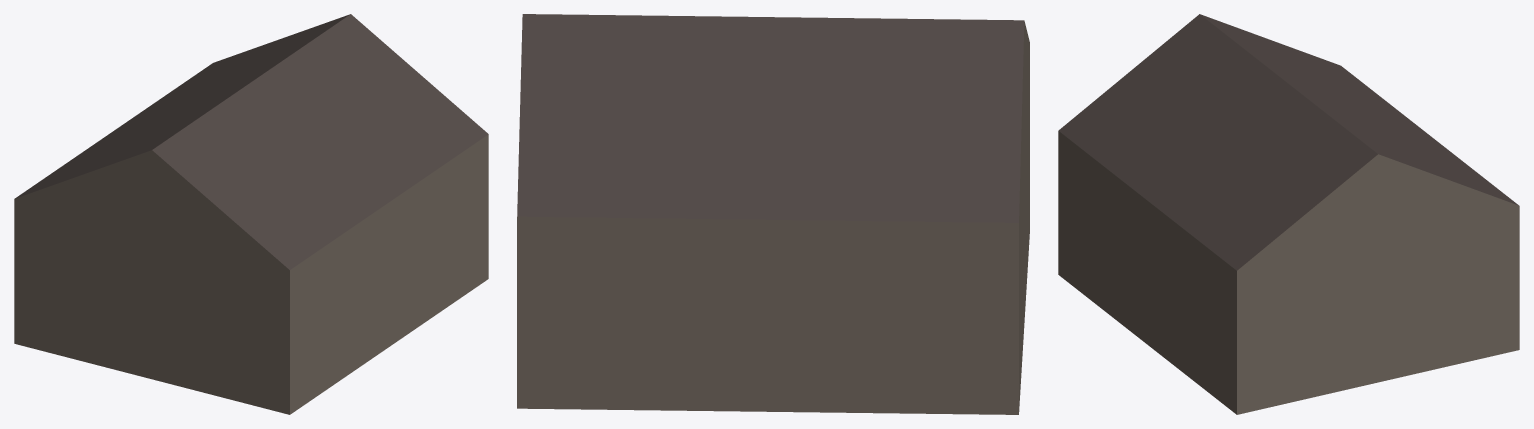
3 views of the same model, side by side, from view 1: azimuth 30°, elevation 25°; view 2: azimuth 150°, elevation 25°; view 3: azimuth 270°, elevation 25° (orthographic). The views are drawn at different scales.
Parts seen in each view (by area): view 1: HP-w859424141; view 2: HP-w859424141; view 3: HP-w859424141.
Boxes of the visible parts, x1,y1,x2,y2 form: HP-w859424141: (14, 14, 488, 414); HP-w859424141: (517, 14, 1029, 414); HP-w859424141: (1058, 14, 1519, 414).
Bounding box in the file's own units: 18.32 × 9.51 × 17.41.
